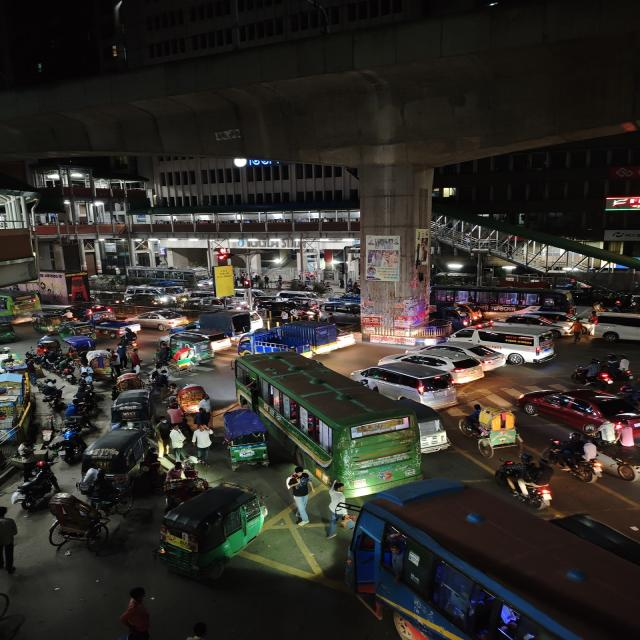bus: (344, 481, 639, 640), (234, 350, 424, 492), (0, 285, 43, 325)
car: (516, 384, 640, 440), (554, 506, 640, 579), (356, 364, 461, 408), (371, 346, 488, 384), (470, 320, 560, 366), (591, 305, 640, 351), (499, 310, 579, 334), (130, 309, 183, 330), (91, 317, 141, 338)
cng: (155, 482, 269, 582), (79, 426, 155, 480), (221, 408, 272, 471), (406, 401, 451, 455), (108, 388, 153, 428), (182, 332, 219, 368), (32, 311, 69, 333)
motorcycle: (496, 460, 556, 509), (547, 436, 604, 484), (12, 464, 57, 514), (571, 354, 633, 390), (117, 328, 141, 352)
pedestrian: (112, 584, 159, 640), (282, 466, 316, 524), (0, 505, 23, 580), (190, 425, 214, 465), (165, 423, 189, 459)
pickup_van: (184, 311, 249, 341), (228, 334, 298, 356)
rickshaw: (44, 473, 138, 553), (460, 401, 525, 457), (175, 382, 213, 418)
truck: (281, 320, 342, 352)
